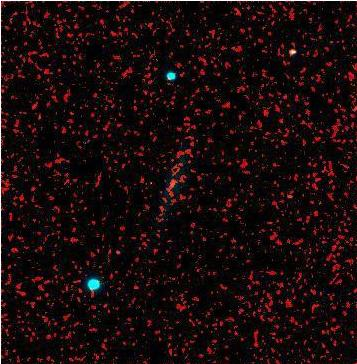star: (121, 275, 151, 305)
